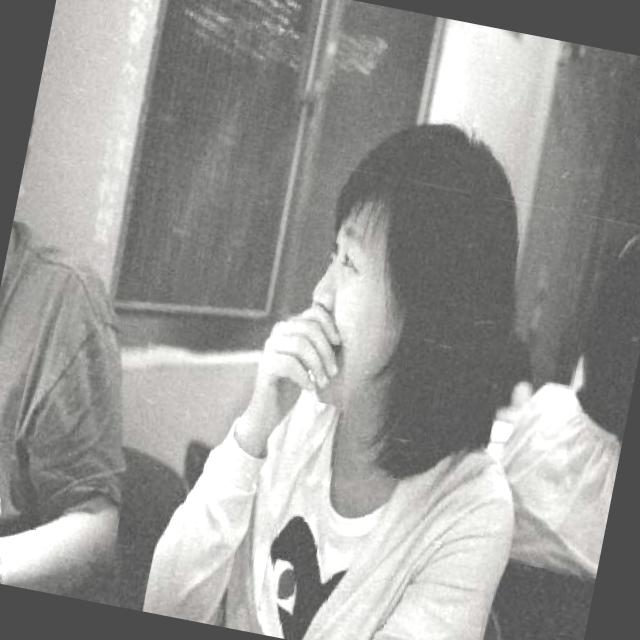Person: (146, 82, 605, 640), (479, 202, 640, 578)
